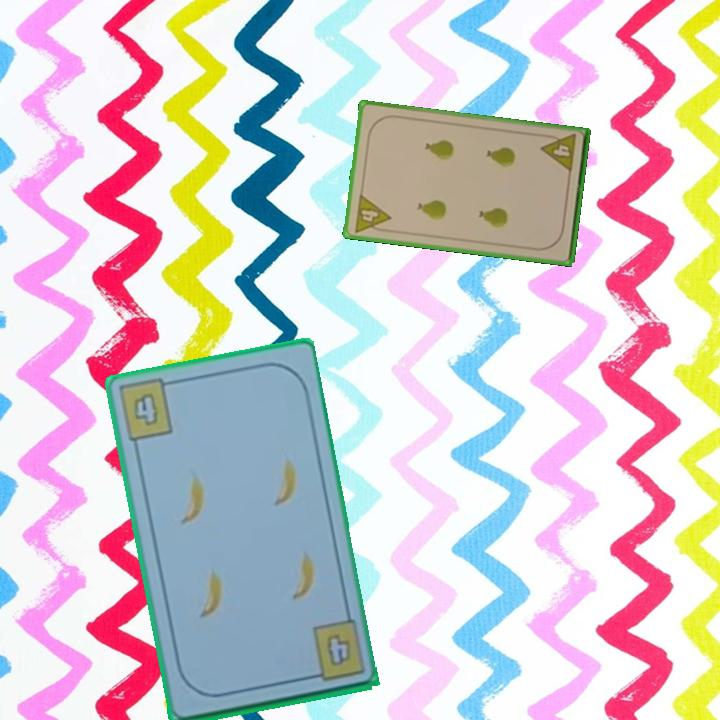4b: (114, 376, 178, 445), (322, 629, 354, 669)
4p: (350, 191, 393, 236), (538, 131, 579, 175)
